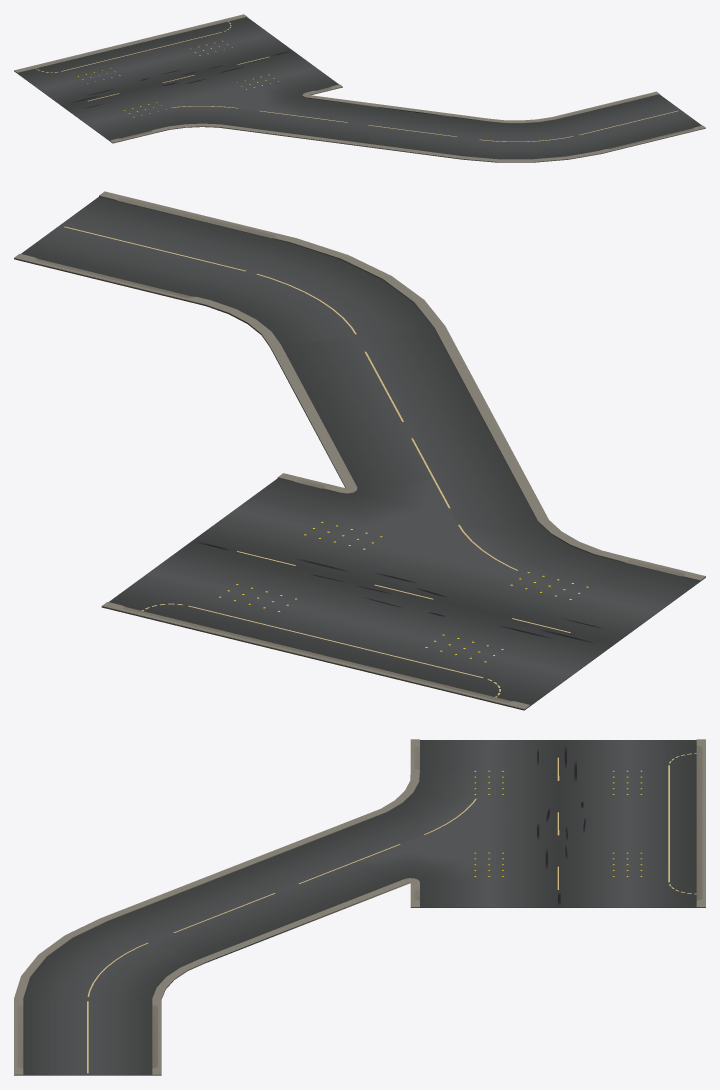
The model's file is Runway_1G.fbx.
The picture shows the model from 3 angles, top to bottom: view 1: azimuth 30°, elevation 25°; view 2: azimuth 150°, elevation 25°; view 3: azimuth 270°, elevation 25°; orthographic projection. The views are drawn at different scales.
Visible parts, largest first — view 1: Runway_1G; view 2: Runway_1G; view 3: Runway_1G.
Part boxes in pixels (x1,y1,x2,y2): Runway_1G: (14, 14, 705, 162); Runway_1G: (14, 191, 705, 710); Runway_1G: (14, 739, 705, 1075).
Bounding box in the file's own units: 17200 × 30 × 15000.
